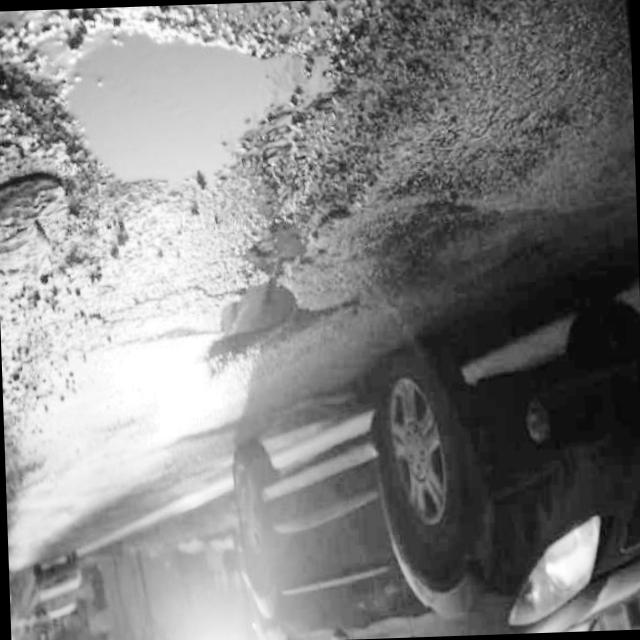Pothole: (57, 5, 290, 214), (190, 261, 340, 392)
